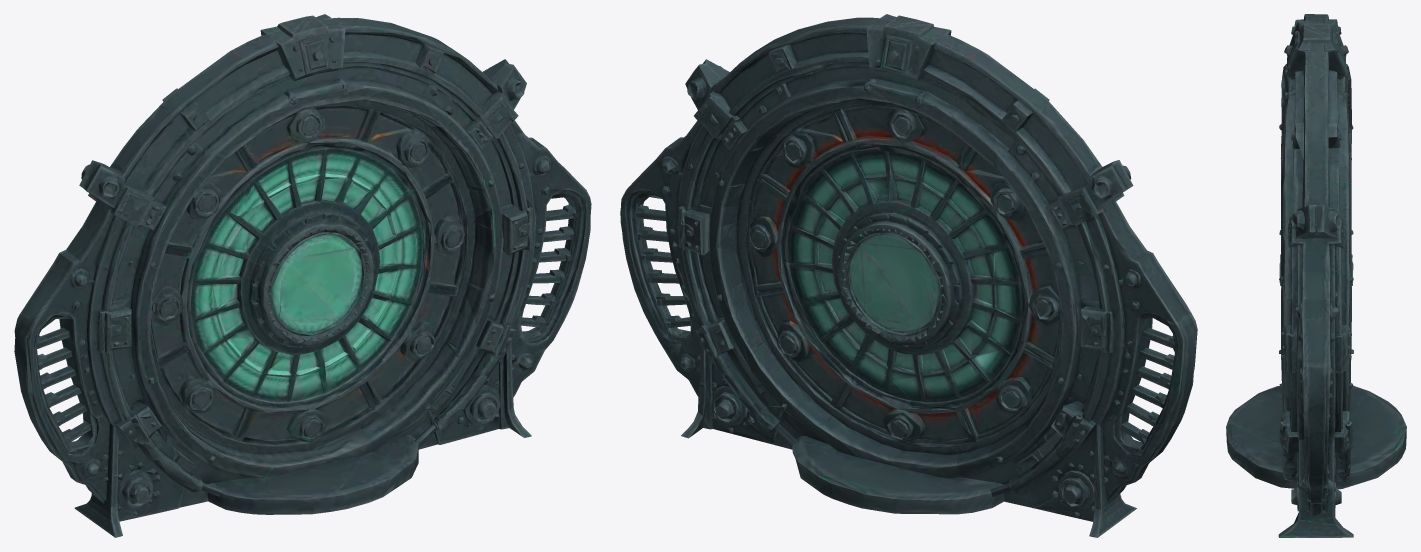
Rendered from mx_ct_keygate.glb.
The picture shows the model from 3 angles, left to right: view 1: azimuth 30°, elevation 25°; view 2: azimuth 150°, elevation 25°; view 3: azimuth 270°, elevation 25°; orthographic projection. The views are drawn at different scales.
Bounding box in the file's own units: 1.9 × 1.44 × 0.5685.
Materials: 1 (1 with a texture image).
